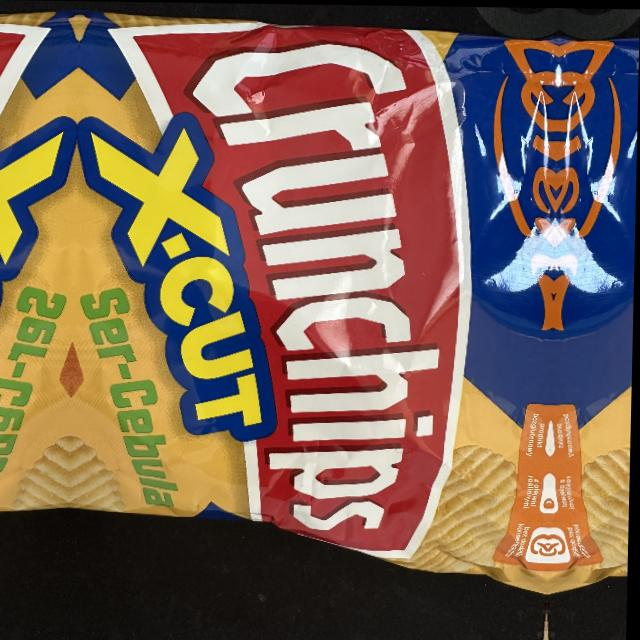crunchips: (110, 22, 474, 558)
